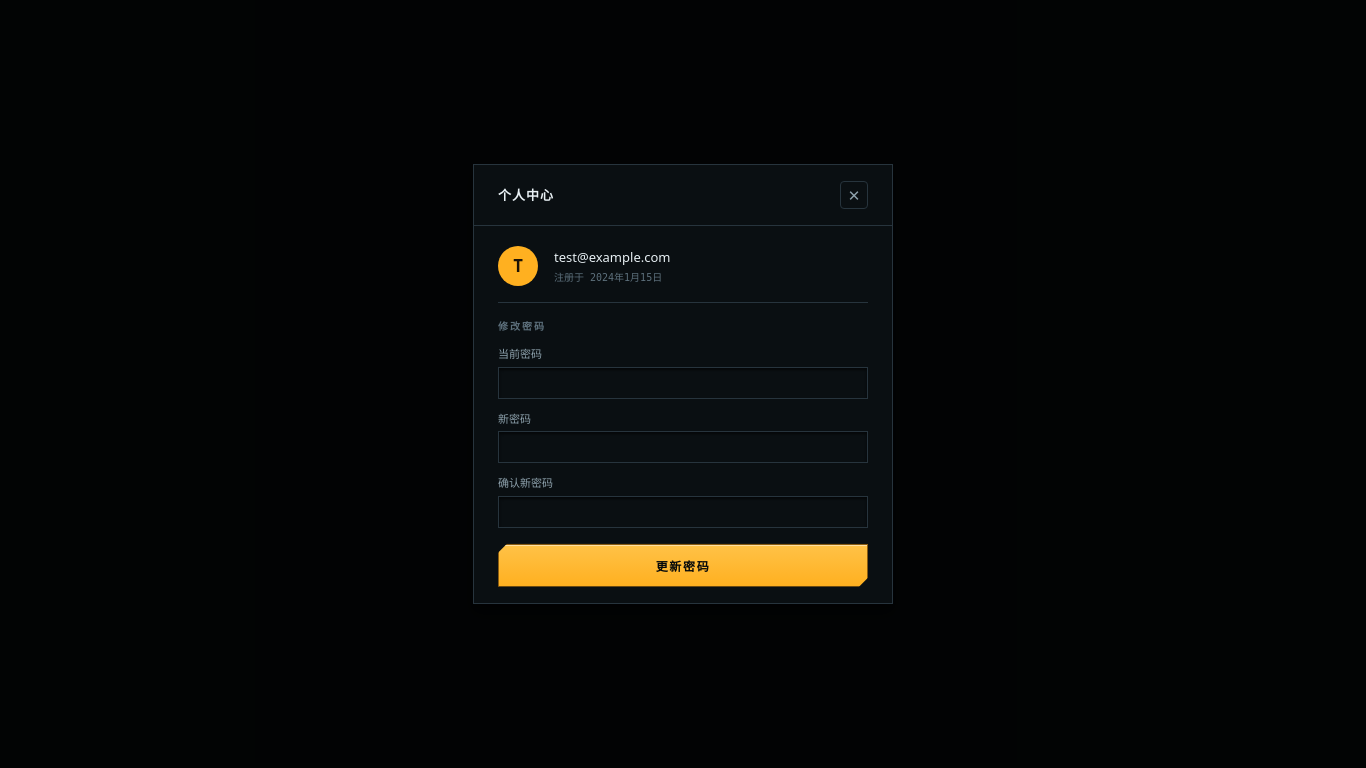
Scenario: AccountDialog › 提交密码修改 › 提交中按钮显示'提交中…'
This screenshot has width=1366, height=768.
In the password field labelled "当前密码": (683,383) [498, 367, 868, 399], type "oldpass"
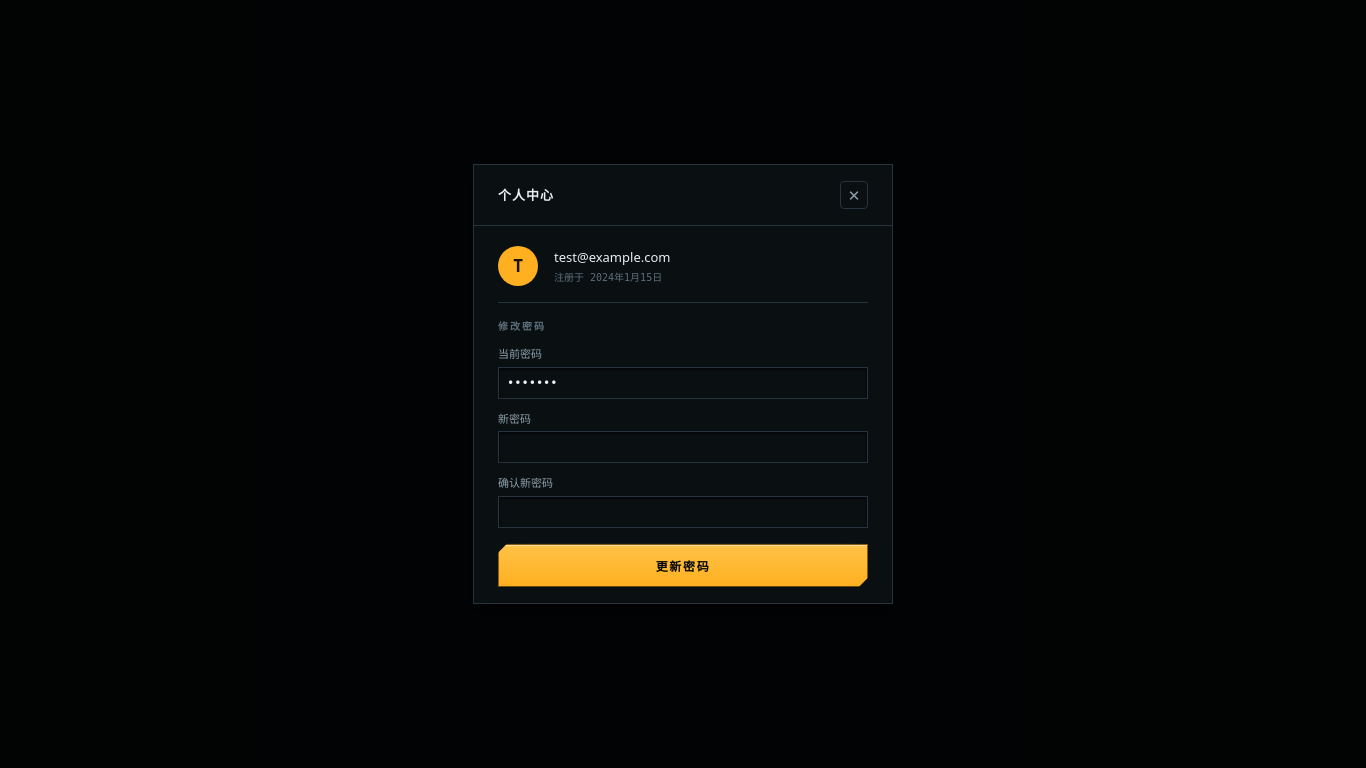
In the password field labelled "新密码": (683,447) [498, 431, 868, 463], type "newpass123"
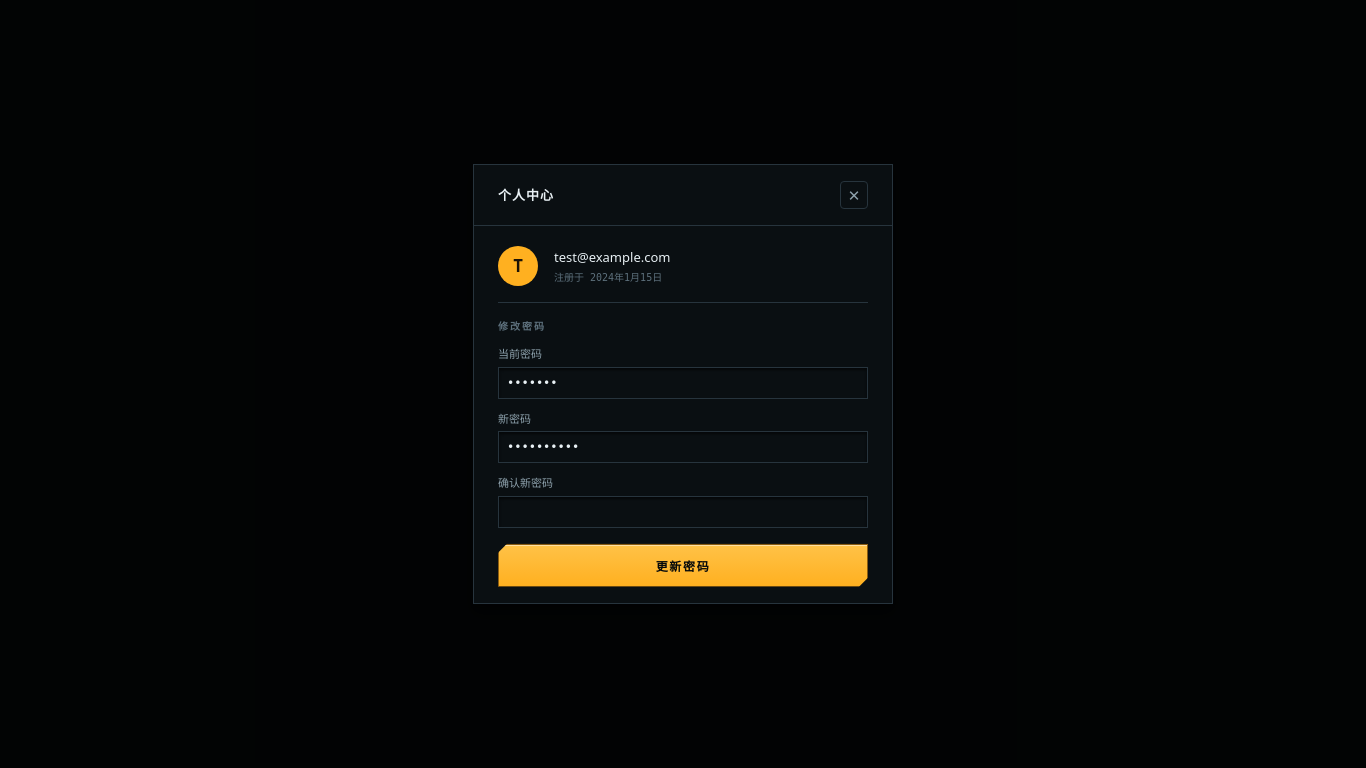
In the password field labelled "确认新密码": (683,512) [498, 496, 868, 528], type "newpass123"
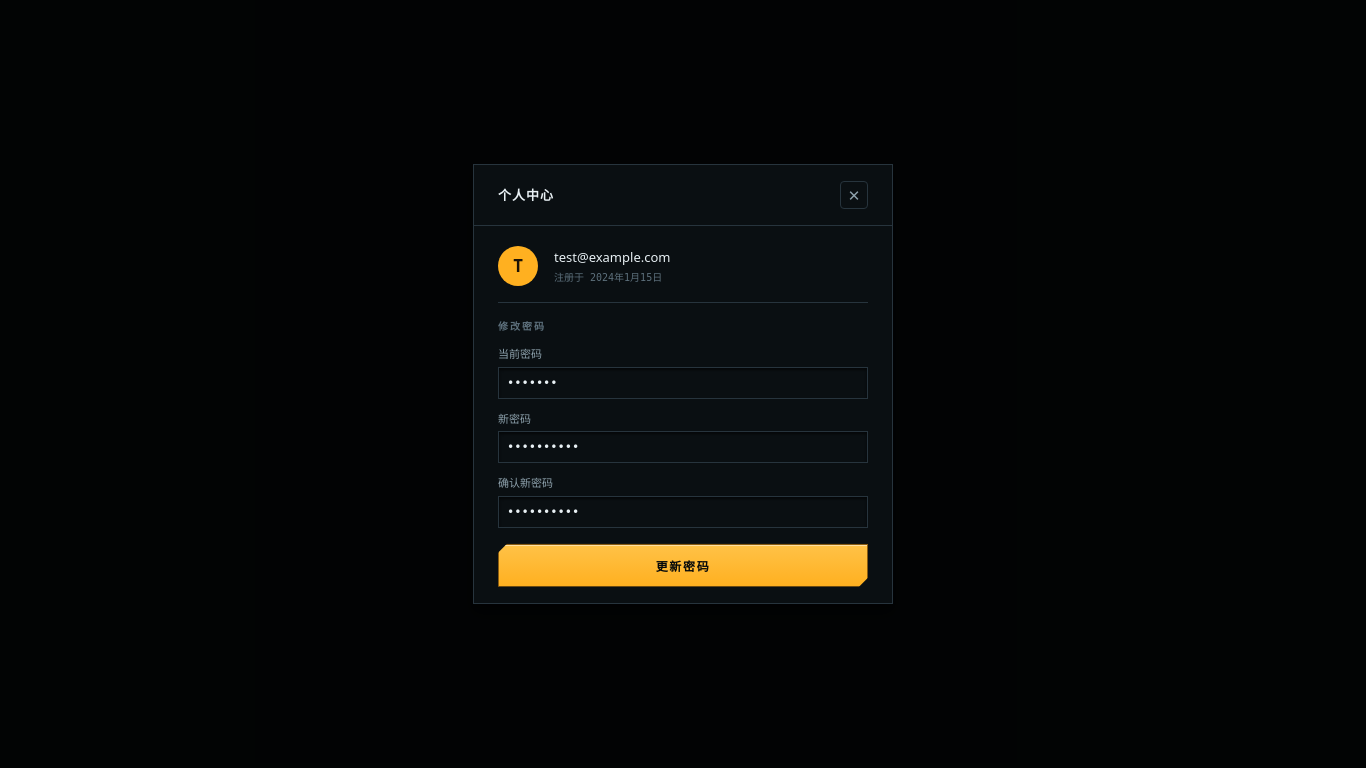
Click the button "更新密码": (683,565) [498, 544, 868, 587]
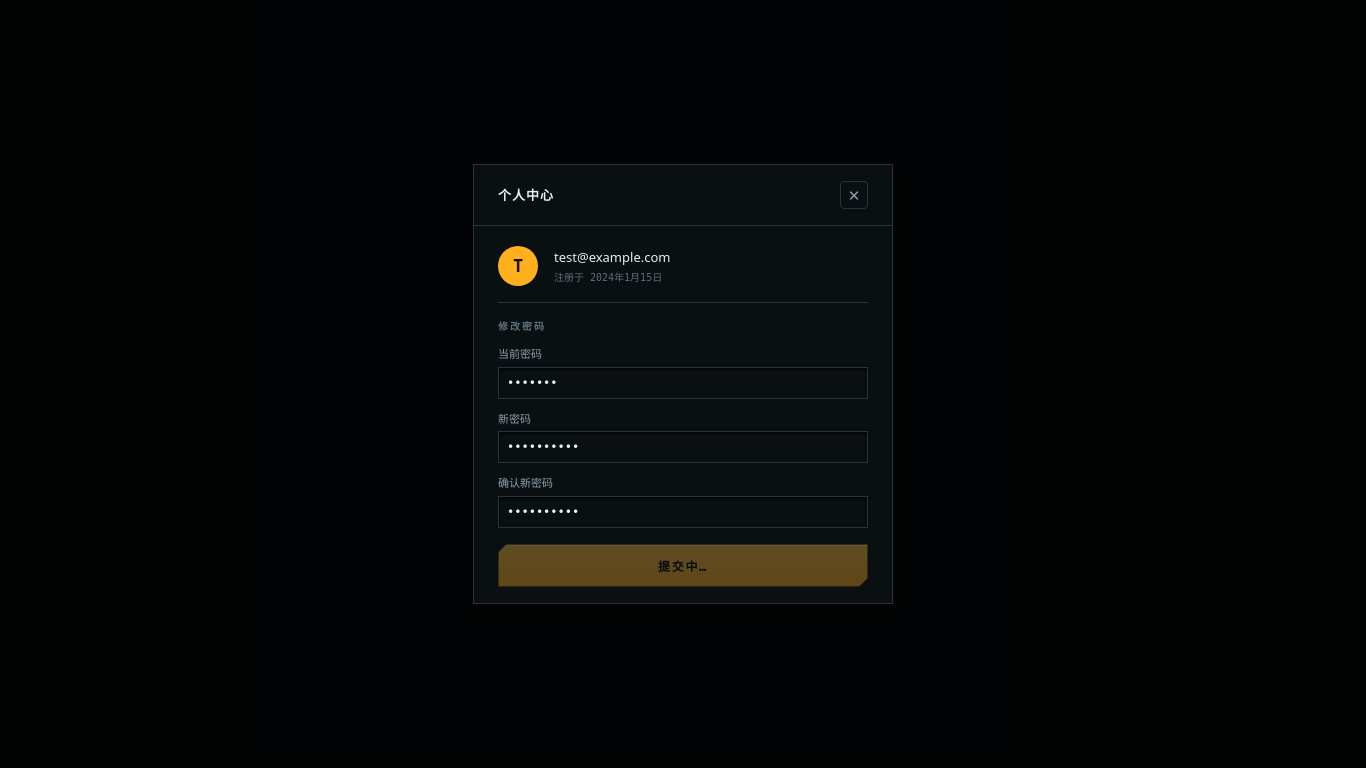
Expected: the button "提交中…" is shown, [498, 544, 868, 587]
